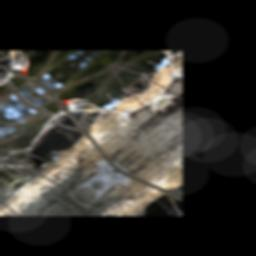Woodpecker: (0, 86, 114, 184)
